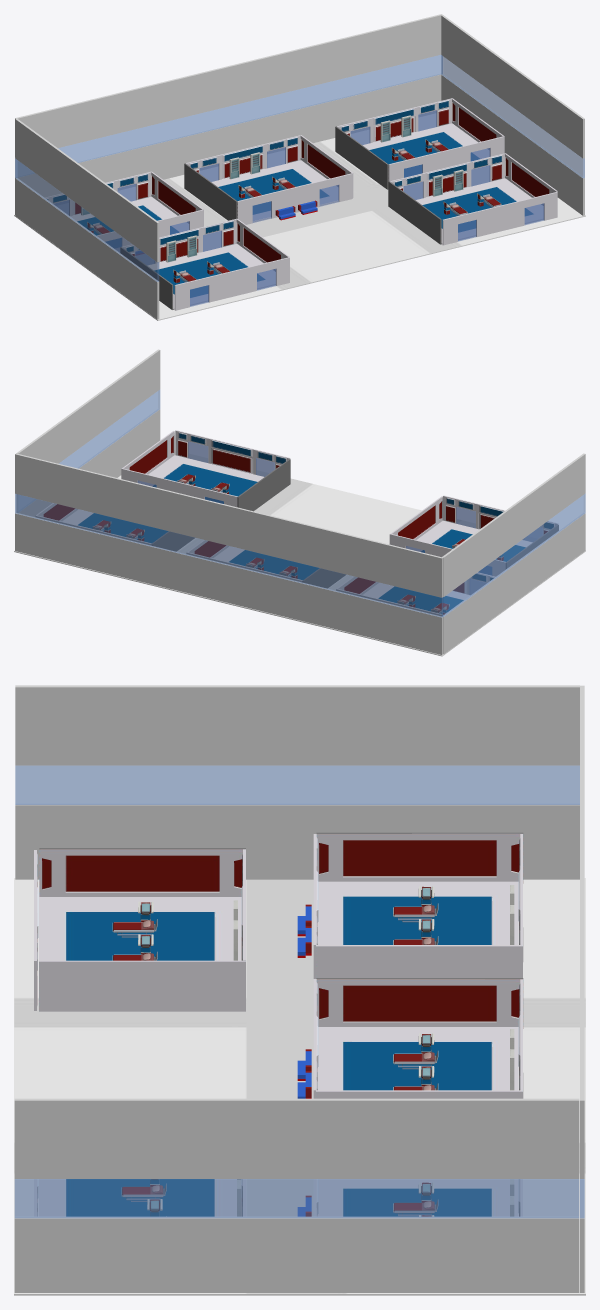
The picture shows the model from 3 angles, top to bottom: view 1: azimuth 30°, elevation 25°; view 2: azimuth 150°, elevation 25°; view 3: azimuth 270°, elevation 25°; orthographic projection. The views are drawn at different scales.
Parts seen in each view (by area): view 1: pasted__pCube21, pCube1, pasted__pCube22, pasted__pCube23, PAREDE_TRAS2, PAREDE_TRAS5, PAREDE_TRAS6, PAREDE_TRAS3, polySurface8, polySurface9, polySurface6, polySurface7 (+4 smaller); view 2: pasted__pCube21, pasted__pCube22, pasted__pCube23, pCube1, PAREDE_TRAS2, PAREDE_TRAS3, PAREDE_TRAS6, PAREDE_TRAS5, polySurface8, polySurface4, polySurface9, polySurface3; view 3: pasted__pCube23, pasted__pCube22, pCube1, PAREDE_TRAS3, PAREDE_TRAS5, polySurface4, polySurface2, PAREDE_TRAS2, polySurface3, PAREDE_TRAS6, pasted__pCube21.
Part boxes in pixels (<box>): pasted__pCube21: <box>15,14,442,214</box>; pCube1: <box>14,113,585,320</box>; pasted__pCube22: <box>15,118,159,319</box>; pasted__pCube23: <box>441,15,584,215</box>; PAREDE_TRAS2: <box>388,153,557,244</box>; PAREDE_TRAS5: <box>184,135,353,222</box>; PAREDE_TRAS6: <box>335,98,504,189</box>; PAREDE_TRAS3: <box>120,218,289,309</box>; polySurface8: <box>442,192,557,245</box>; polySurface9: <box>174,257,289,310</box>; polySurface6: <box>237,173,352,224</box>; polySurface7: <box>388,136,503,181</box>; pasted__pCube21: <box>15,453,443,654</box>; pasted__pCube22: <box>442,453,585,654</box>; pasted__pCube23: <box>16,349,160,516</box>; pCube1: <box>14,450,585,656</box>; PAREDE_TRAS2: <box>121,431,290,511</box>; PAREDE_TRAS3: <box>389,496,558,576</box>; PAREDE_TRAS6: <box>35,503,194,551</box>; PAREDE_TRAS5: <box>186,540,345,588</box>; polySurface8: <box>175,430,290,474</box>; polySurface4: <box>363,583,469,611</box>; polySurface9: <box>443,495,557,539</box>; polySurface3: <box>336,576,378,594</box>; pasted__pCube23: <box>14,1098,579,1292</box>; pasted__pCube22: <box>15,685,579,879</box>; pCube1: <box>14,878,585,1295</box>; PAREDE_TRAS3: <box>39,848,245,1011</box>; PAREDE_TRAS5: <box>316,978,523,1098</box>; polySurface4: <box>318,881,518,944</box>; polySurface2: <box>316,832,523,883</box>; PAREDE_TRAS2: <box>39,1179,245,1216</box>; polySurface3: <box>316,945,522,978</box>; PAREDE_TRAS6: <box>318,1179,522,1216</box>; pasted__pCube21: <box>580,685,584,1292</box>.
Size of the model in its own units: 125 by 27.17 by 72.42.
Materials: 11 (6 with a texture image).
